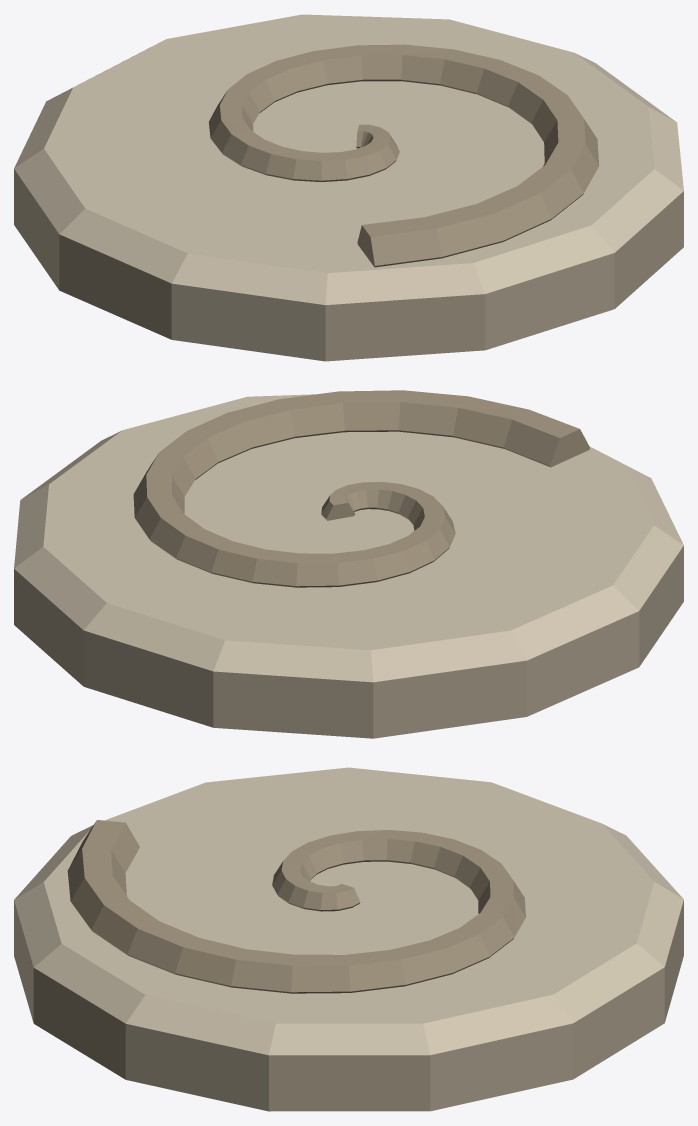
File: salzsee_10.glb
The picture shows the model from 3 angles, top to bottom: view 1: azimuth 30°, elevation 25°; view 2: azimuth 150°, elevation 25°; view 3: azimuth 270°, elevation 25°; orthographic projection.
Parts seen in each view (by area): view 1: salzsee_10; view 2: salzsee_10; view 3: salzsee_10.
Boxes of the visible parts, x1,y1,x2,y2 form: salzsee_10: (14, 14, 683, 361); salzsee_10: (14, 390, 683, 738); salzsee_10: (14, 767, 683, 1111).
Bounding box in the file's own units: 1.99 × 0.4014 × 2.
